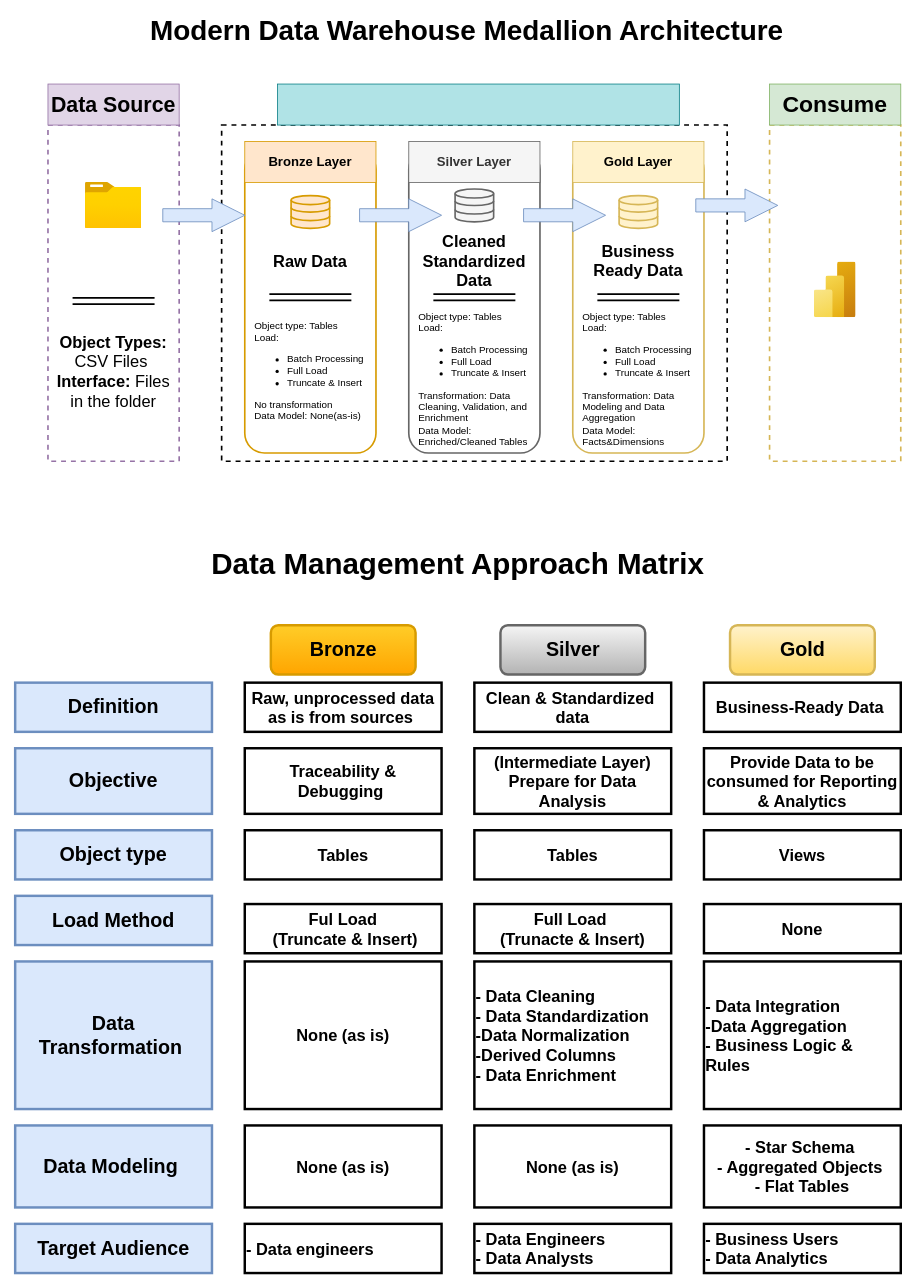
This 919x1288 diagram has some shape labels left out. Here are the shapes that lost their labels. From the top down, the centre of each, then its label:
At (x=478, y=104): "Data Warehouse".
At (x=113, y=205): "Data".
At (x=835, y=289): "BI Reporting".
